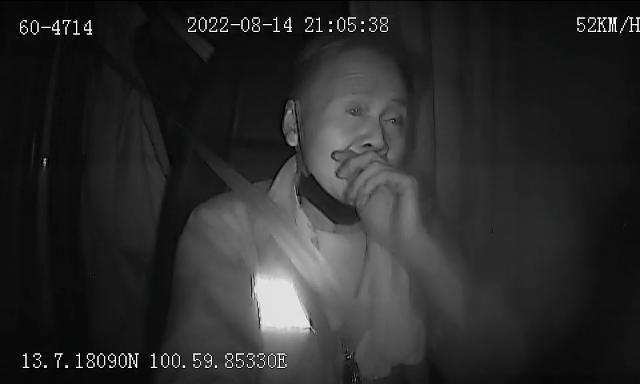SafeDriving: (378, 104, 408, 134), (340, 96, 371, 122)
Seatbelt: (198, 147, 354, 335)
